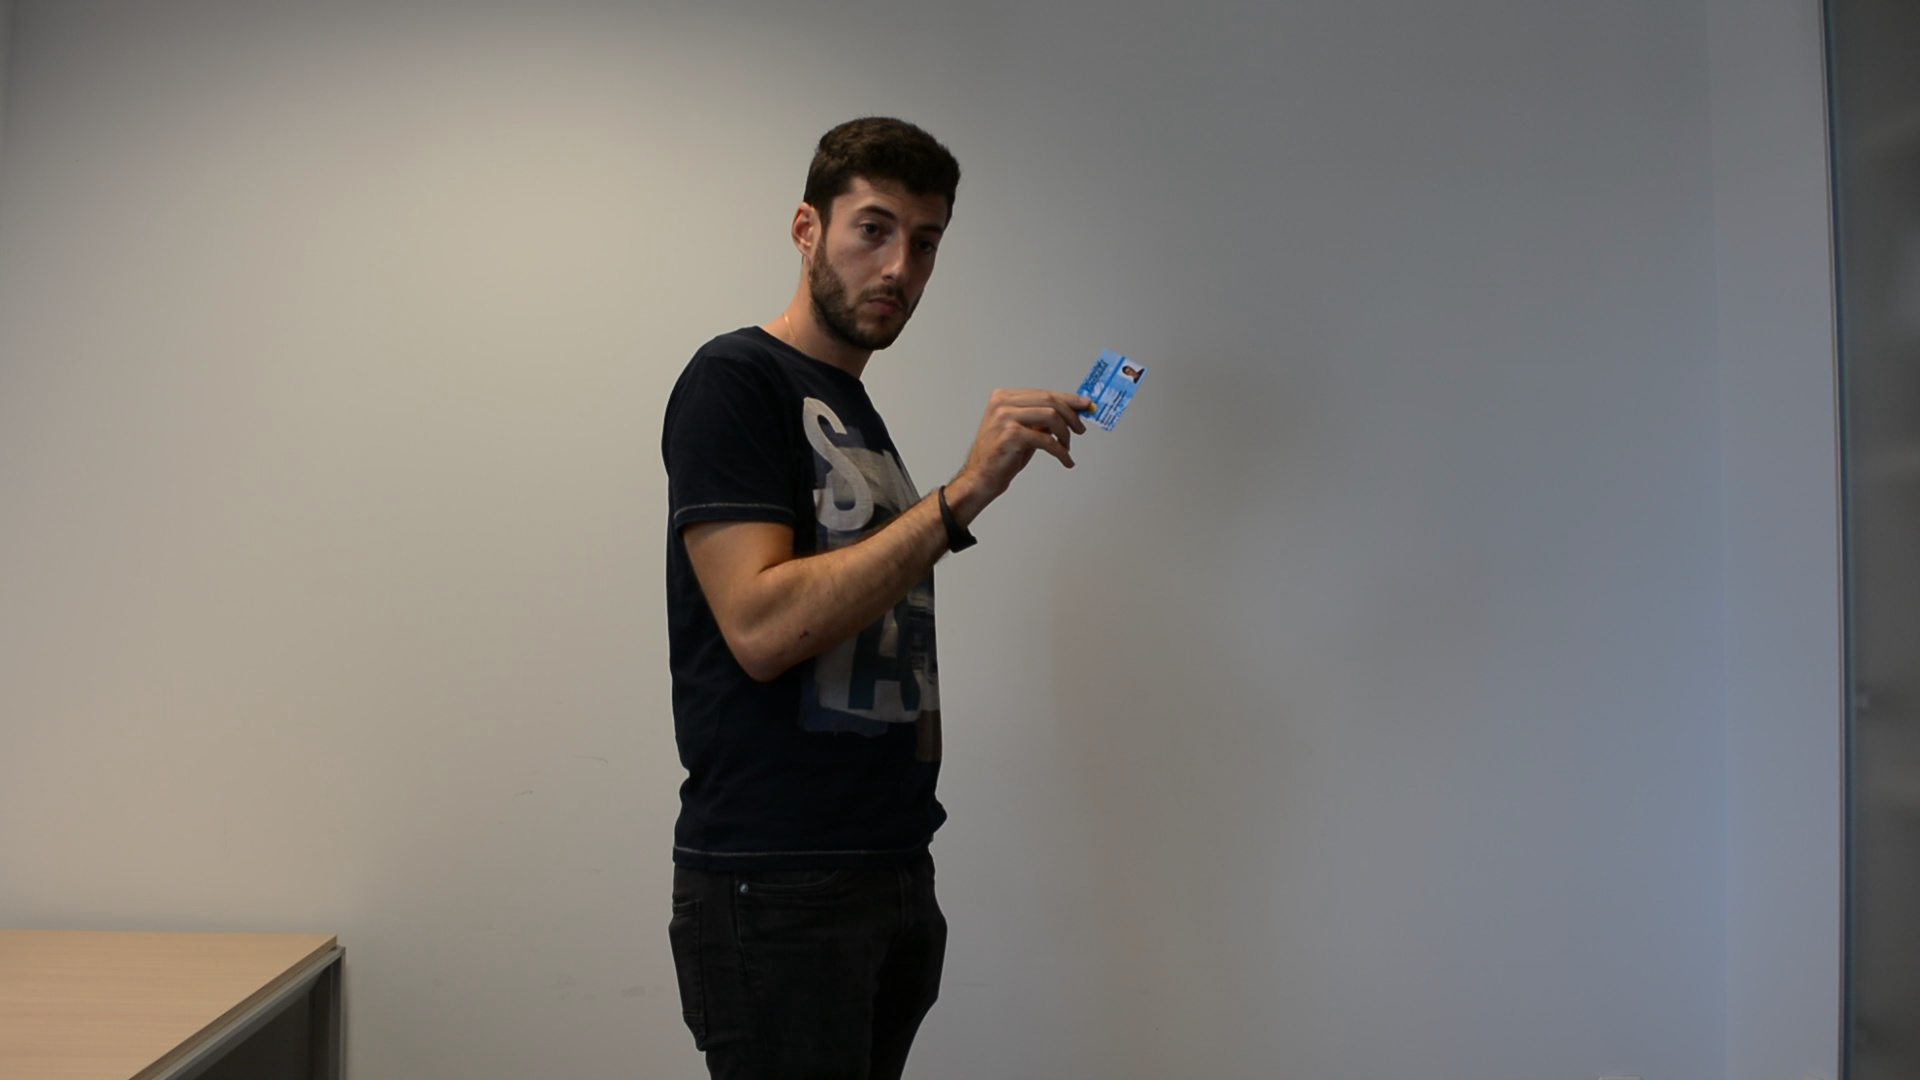tarjeta: (1069, 345, 1151, 433)
